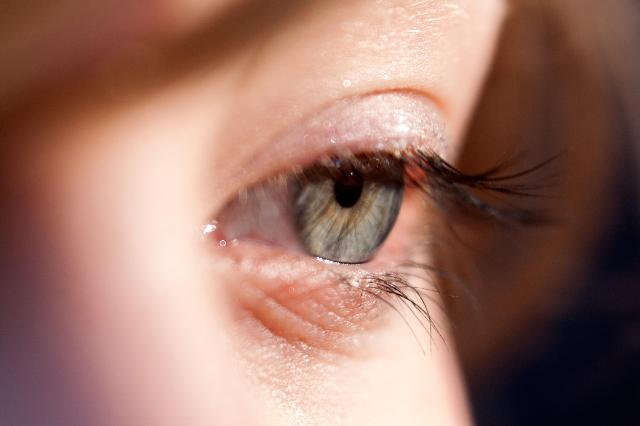eye: (292, 148, 406, 264)
